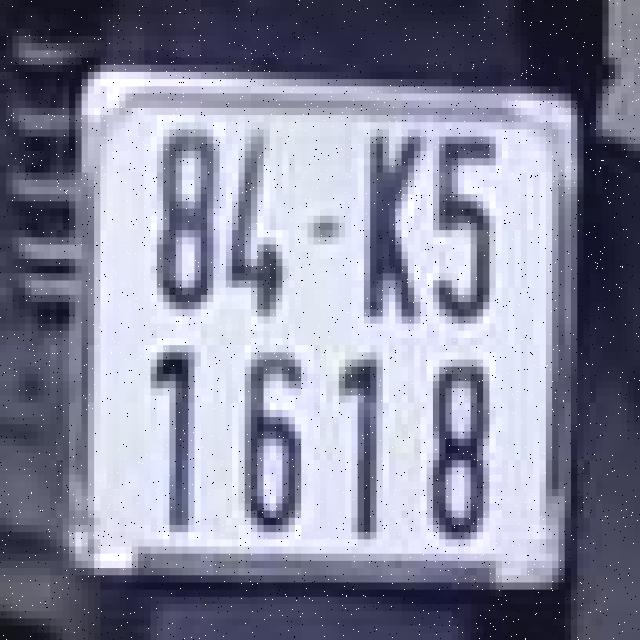1: (147, 345, 204, 539), (332, 342, 382, 536)
4: (229, 126, 304, 320)
5: (430, 130, 505, 323)
6: (232, 331, 308, 532)
8: (420, 349, 502, 543), (154, 122, 222, 316)
K: (355, 118, 417, 342)
